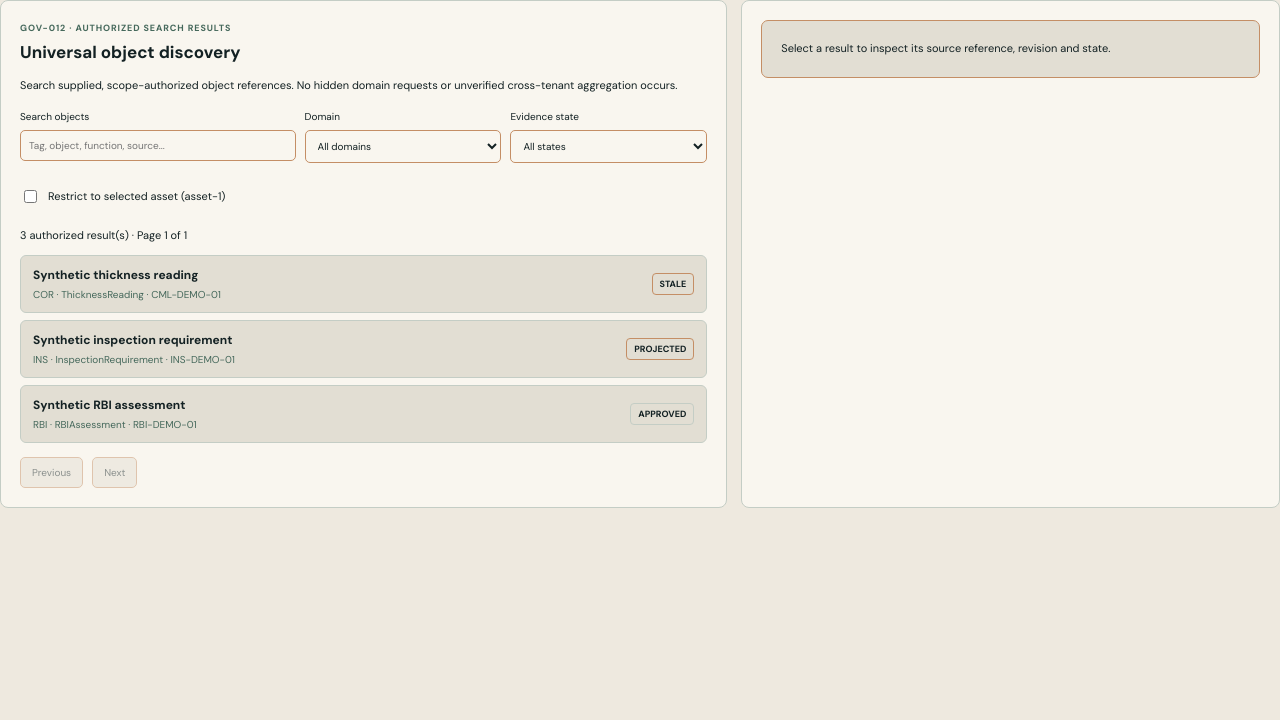
Test case: GOV-012 search and cross-domain record routing › does not enable asset context without a validated option
The width and height of the screenshot is (1280, 720).
What coordinates should you click on to do the following:
click the button "Synthetic RBI assessment"
I would click on:
 (109, 405)
Its box is [20, 385, 707, 443].
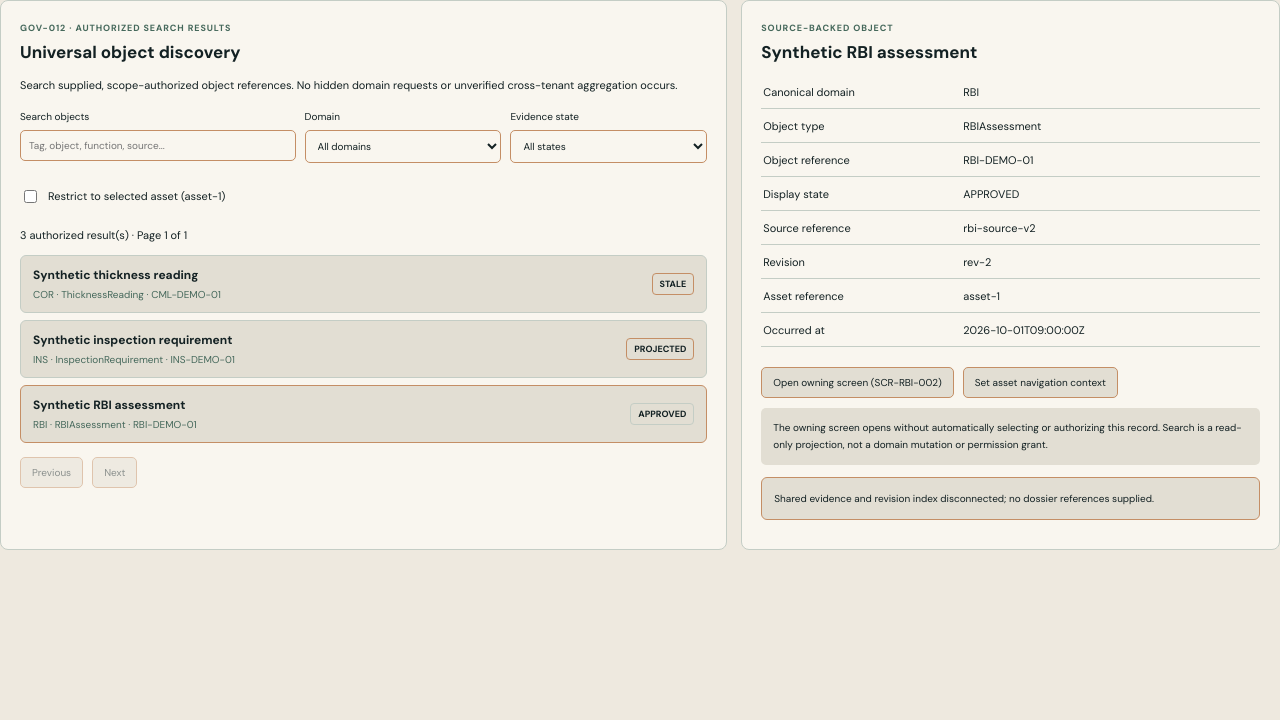
Expected: the button "Set asset navigation context" is shown, [963, 367, 1118, 398]
